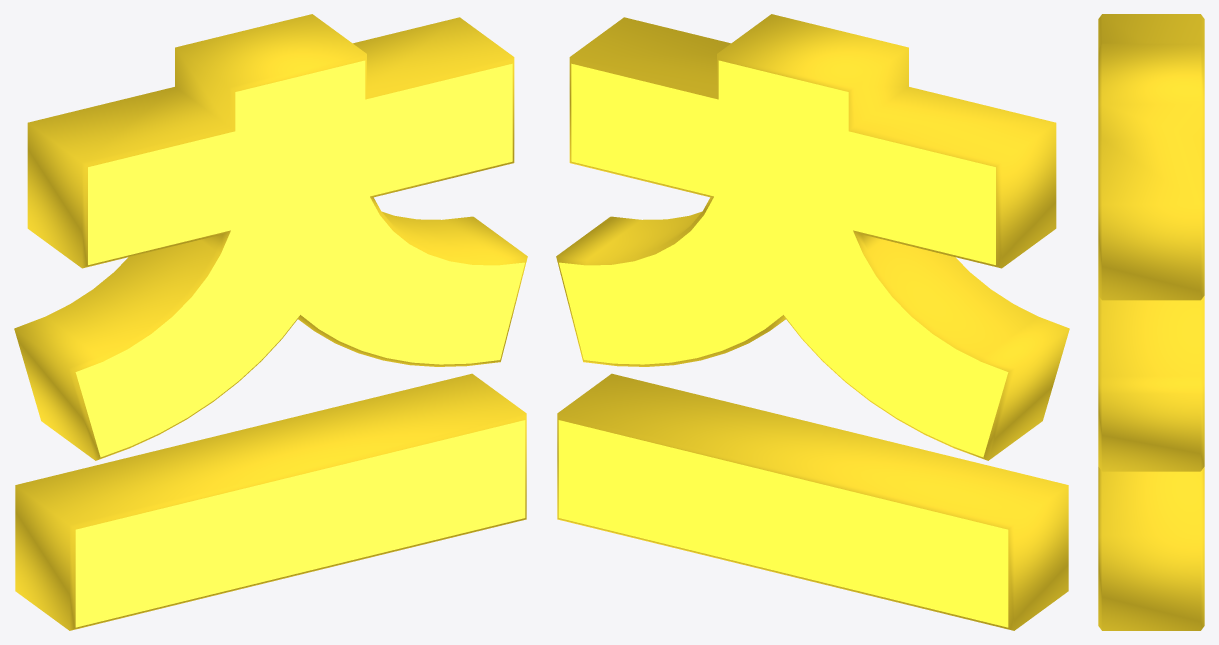
3 views of the same model, side by side, from view 1: azimuth 30°, elevation 25°; view 2: azimuth 150°, elevation 25°; view 3: azimuth 270°, elevation 25° (orthographic). The views are drawn at different scales.
Visible parts, largest first — view 1: glyph; view 2: glyph; view 3: glyph.
Boxes of the visible parts, left/top/right/bottom form: glyph: left=14, top=14, right=527, bottom=630; glyph: left=556, top=14, right=1069, bottom=630; glyph: left=1098, top=14, right=1204, bottom=630.
Size of the model in its own units: 0.073 by 0.0766 by 0.0162.
